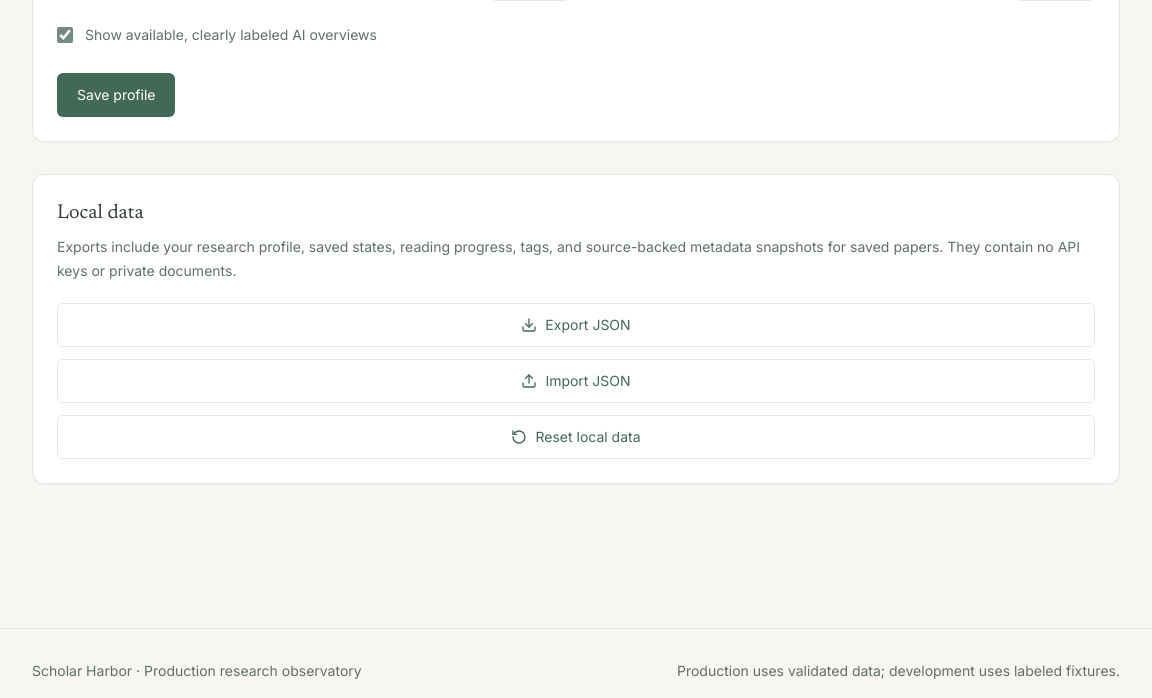
Scenario: Scholar Harbor application shell › requires confirmation before resetting private local data
(page scrolled)
What coordinates should you click on to do the following:
click the button "Reset local data"
I would click on:
 (576, 437)
Its box is [57,415,1095,459].
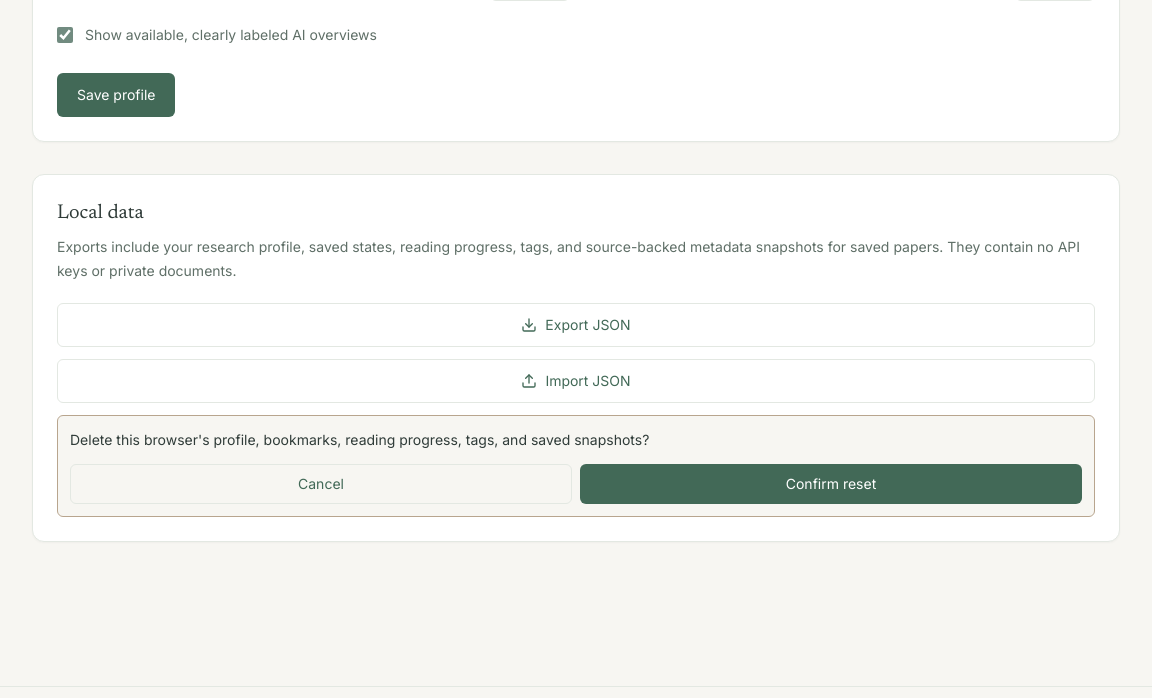
Expected: the text "Delete this browser's profile" is shown, [70,431,649,448]
What coordinates should you click on to do the following:
click the button "Confirm reset"
I would click on:
 (831, 484)
Its box is [580,464,1082,504].
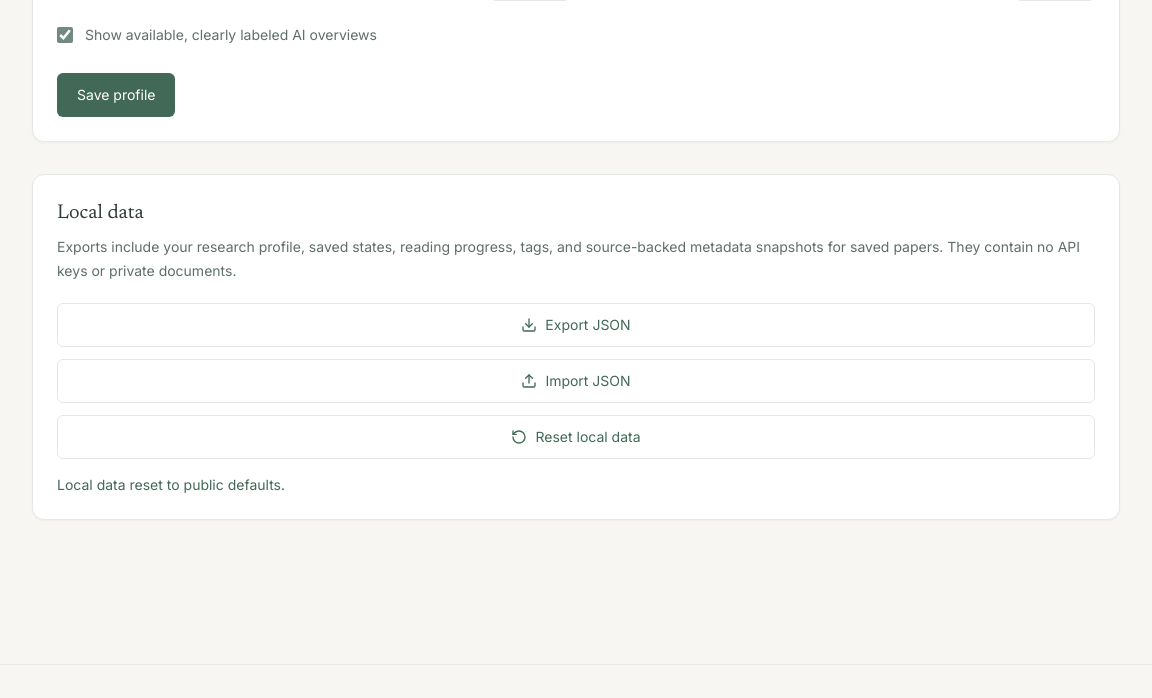
Expected: the text "Local data reset to public defaults." is shown, [57,476,285,493]
